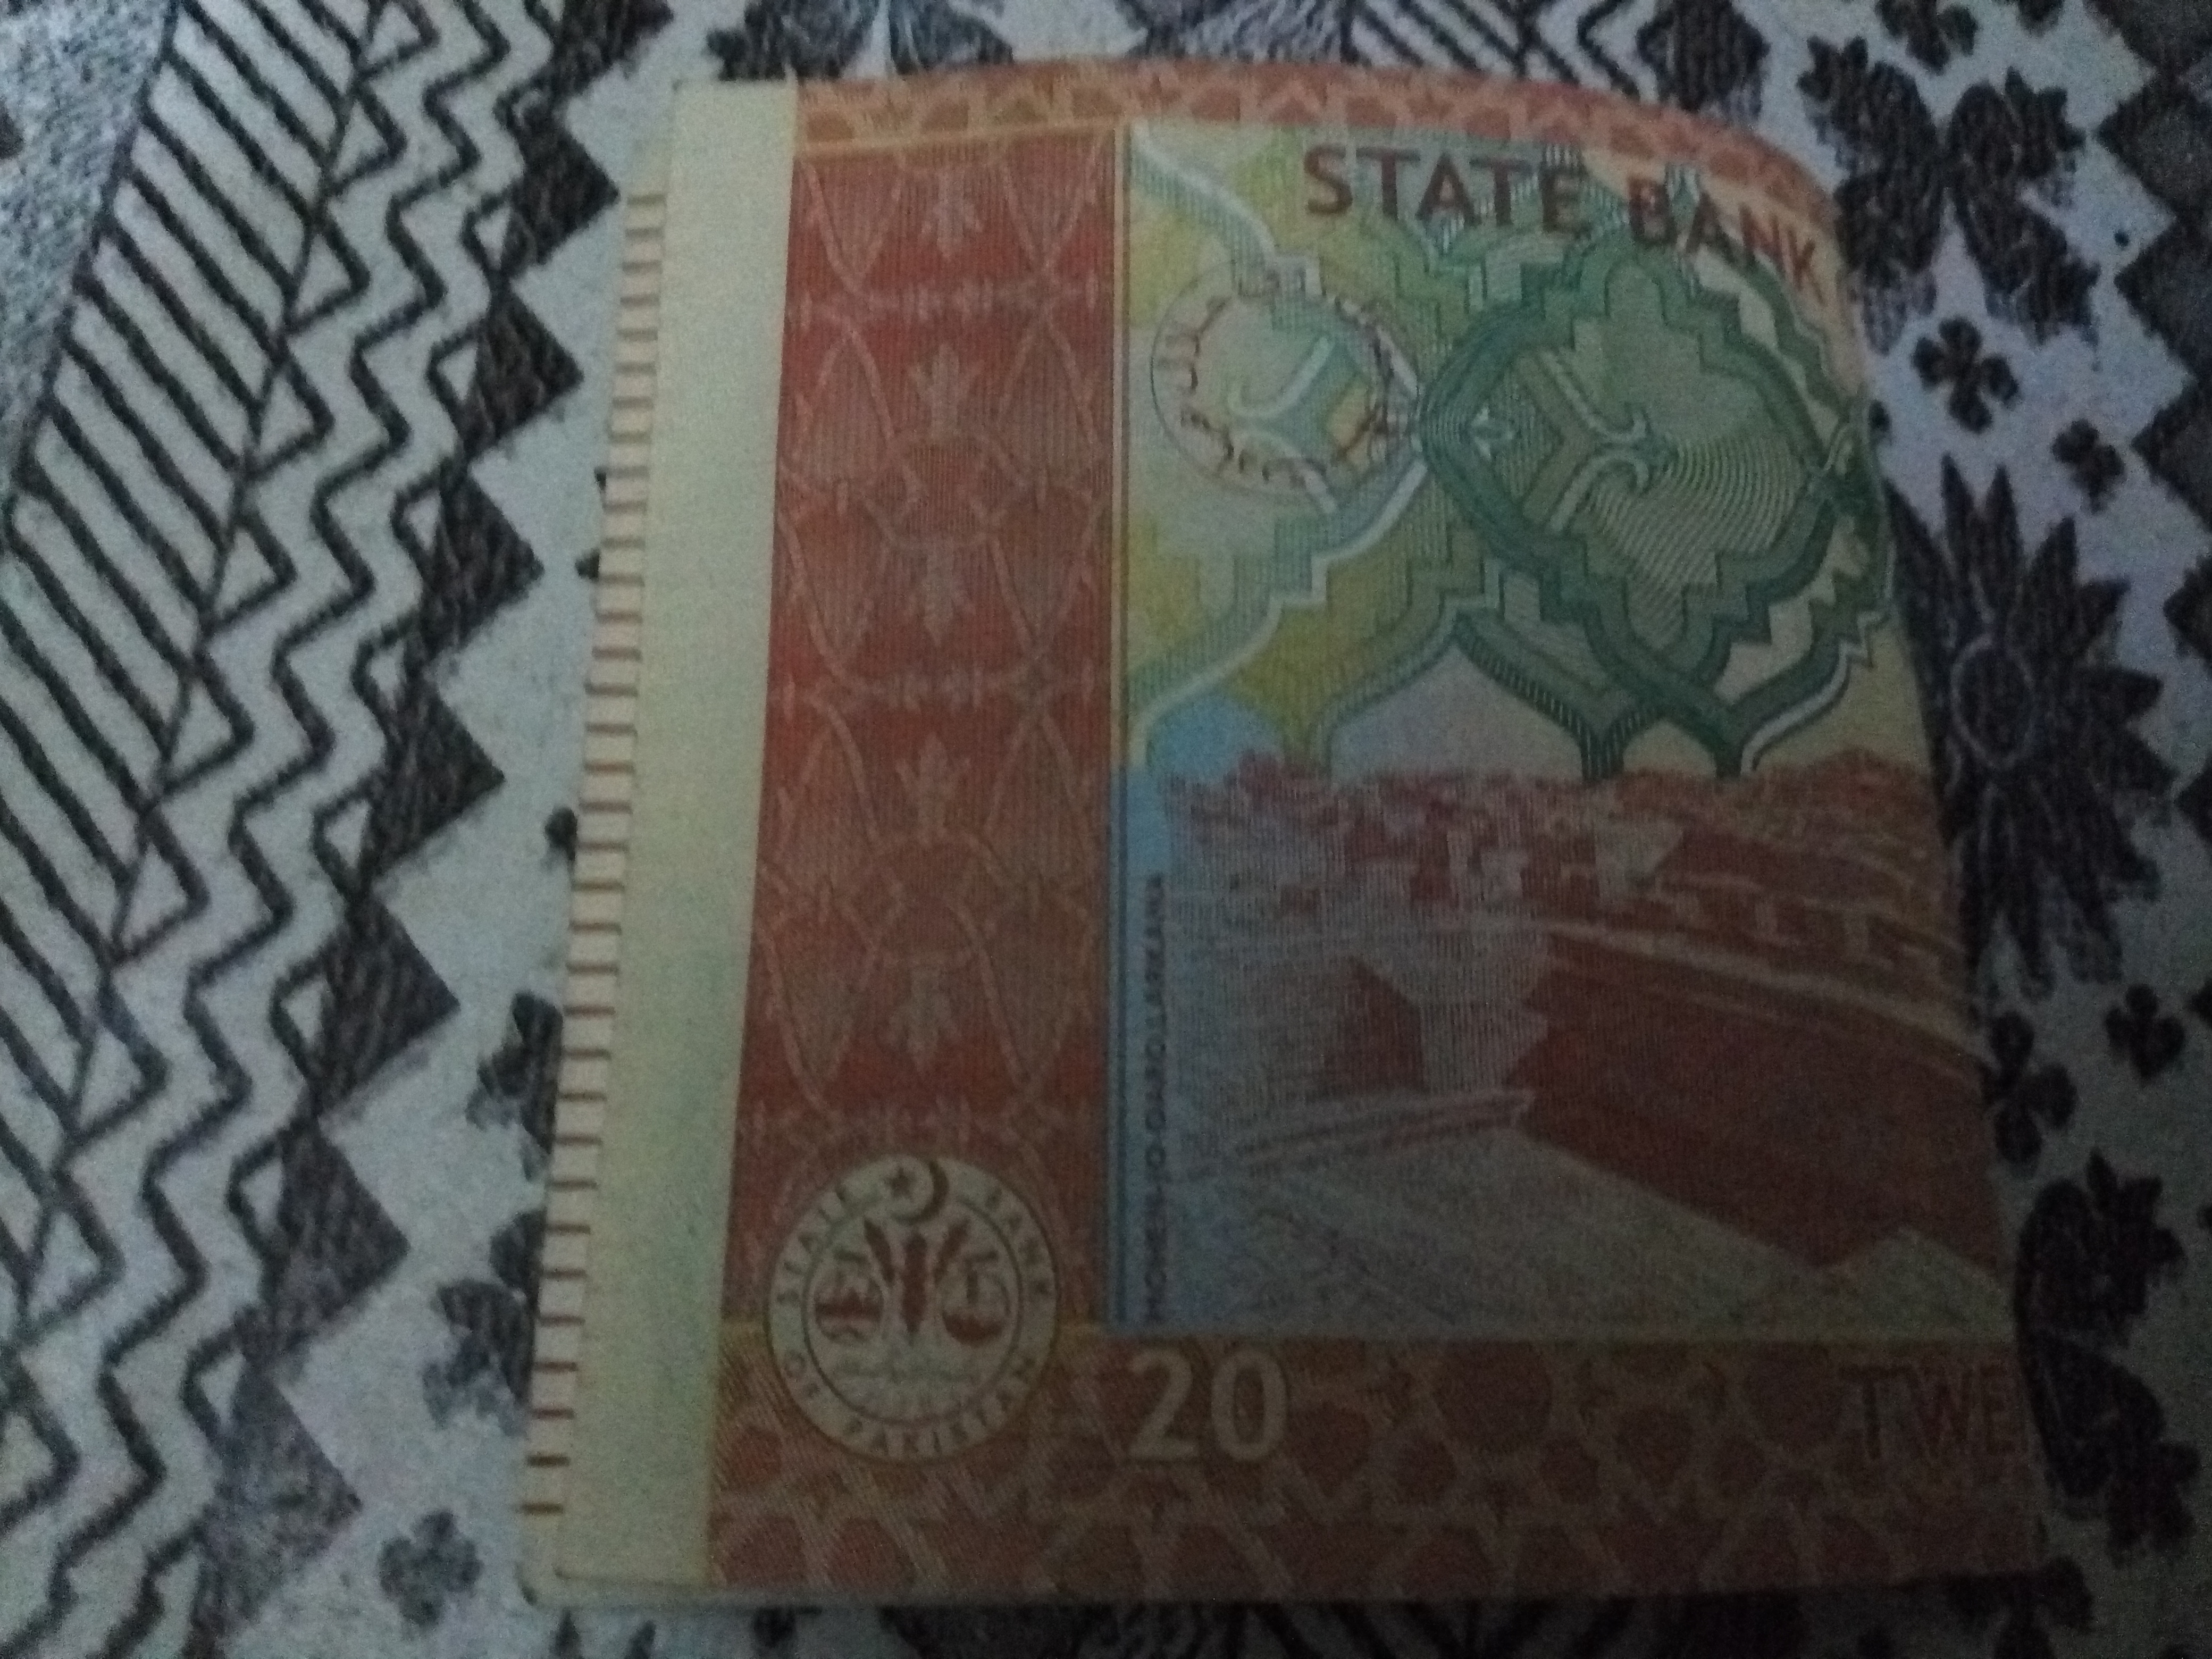20 rupee: (394, 71, 2087, 1621)
